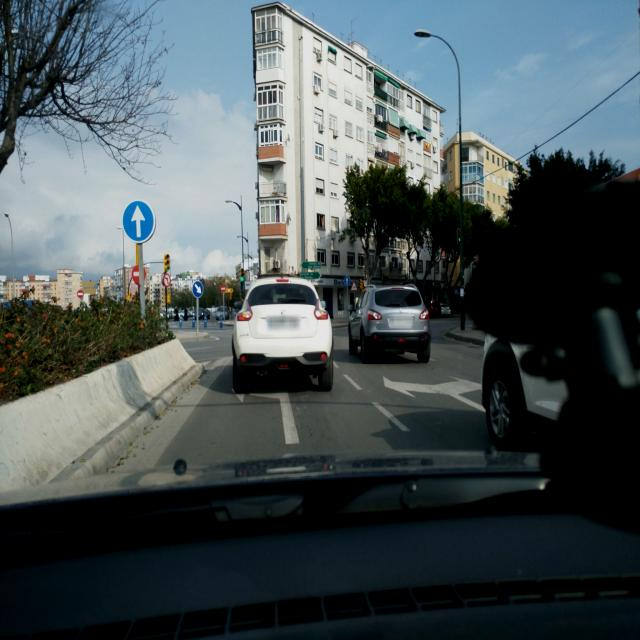car: (481, 312, 629, 452), (231, 275, 334, 394), (347, 282, 431, 364), (425, 300, 452, 318)
